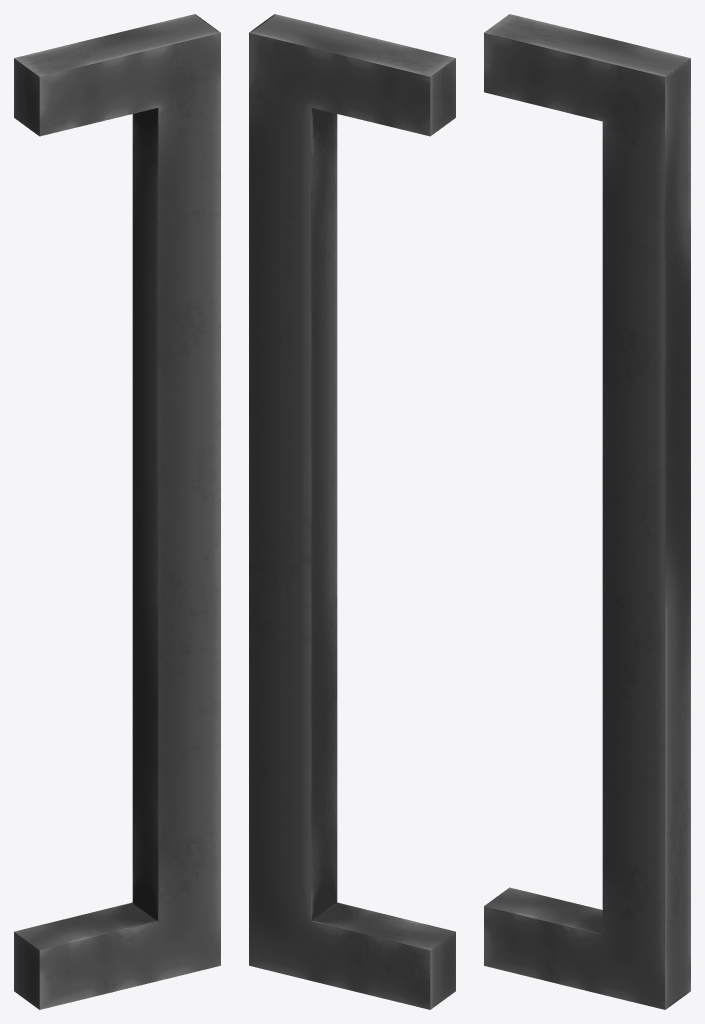
File: handle1.glb
The picture shows the model from 3 angles, left to right: view 1: azimuth 30°, elevation 25°; view 2: azimuth 150°, elevation 25°; view 3: azimuth 330°, elevation 25°; orthographic projection.
Parts seen in each view (by area): view 1: handle; view 2: handle; view 3: handle.
Boxes of the visible parts, bbox=[...] form: handle: bbox=[14, 14, 220, 1009]; handle: bbox=[249, 14, 455, 1009]; handle: bbox=[484, 14, 690, 1009].
Size of the model in its own units: 0.1114 by 0.5471 by 0.0273.
Materials: 1 (1 with a texture image).
